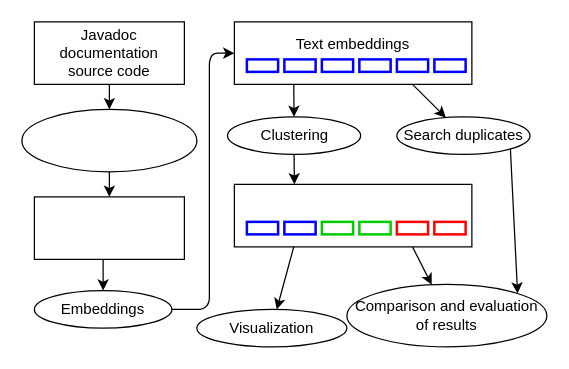
This 569x369 diagram has some shape labels left out. The shapes that lost their labels are listed below. From the top down, each one's centre as x and y in pixels, then its label:
At (109,140): "Import documentation".
At (108,227): "Dataset with documentation (Markdown, CSV)".
At (352,215): "Clusters".
